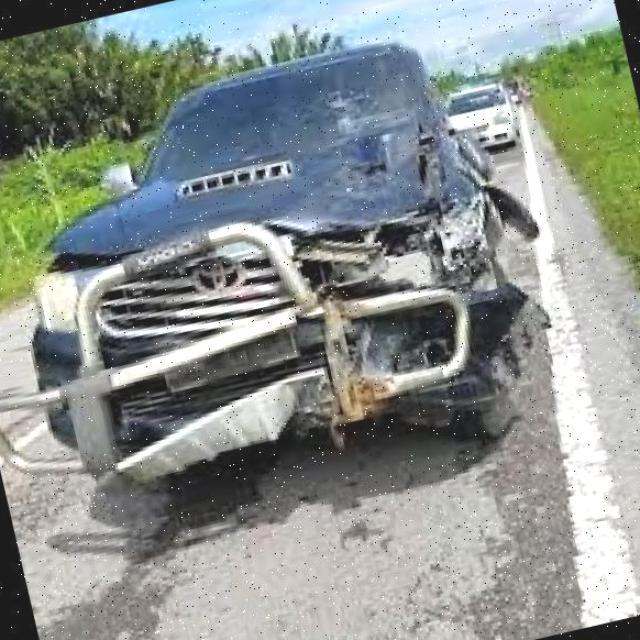accident: (55, 0, 614, 532)
